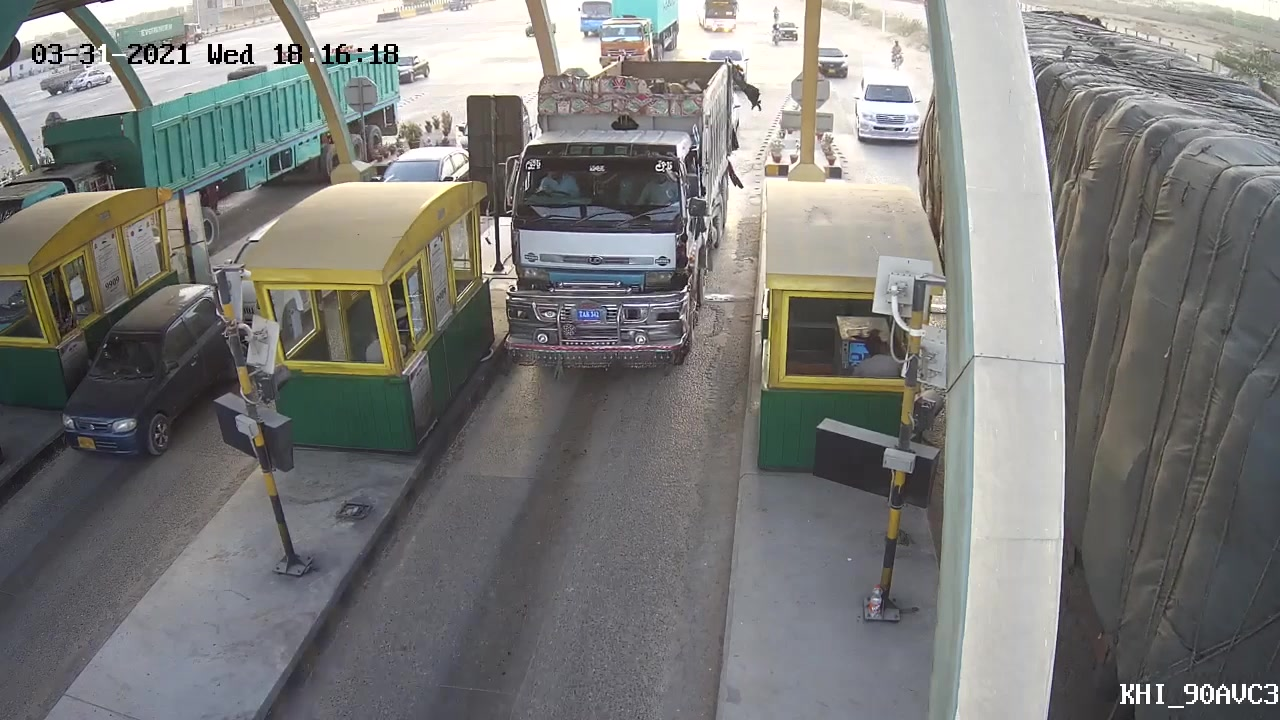F5: (483, 54, 745, 385)
